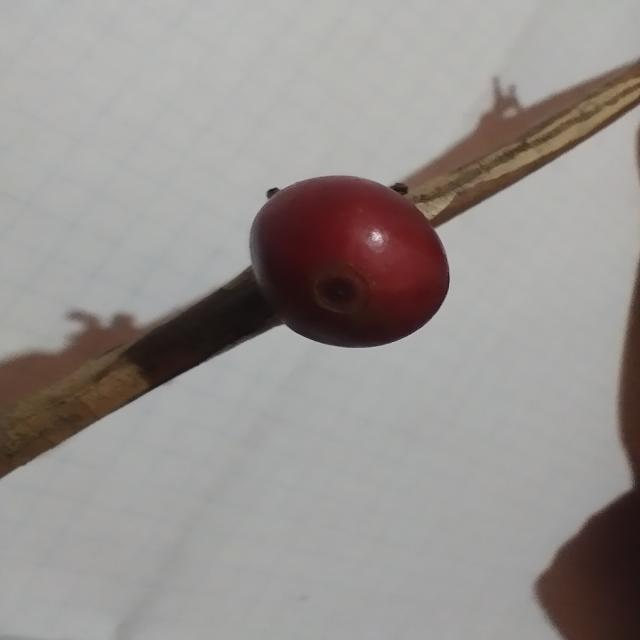Sano: (249, 176, 451, 350)
